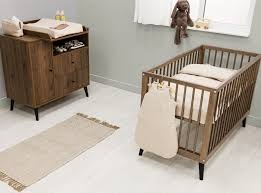crib: (141, 45, 260, 179)
